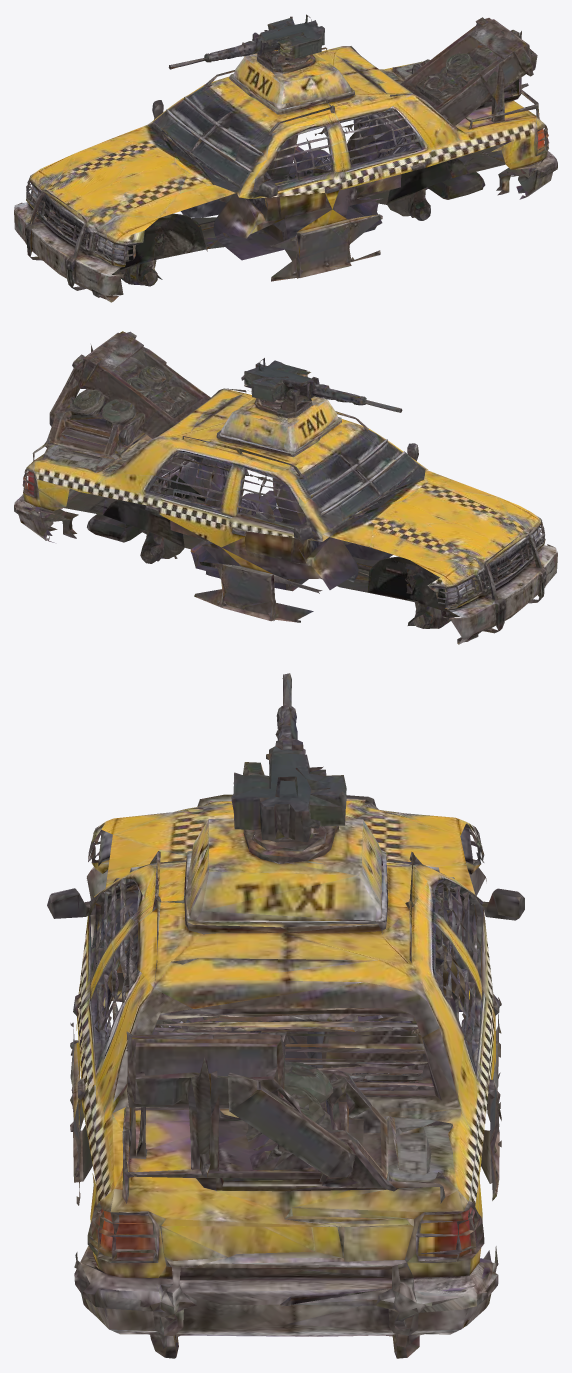
File: jackrabbit-ai.glb
3 views of the same model, one above another, from view 1: azimuth 30°, elevation 25°; view 2: azimuth 150°, elevation 25°; view 3: azimuth 270°, elevation 25° (orthographic). The views are drawn at different scales.
Parts seen in each view (by area): view 1: CarBody; view 2: CarBody; view 3: CarBody.
Boxes of the visible parts, left/top/right/bottom form: CarBody: left=14, top=14, right=557, bottom=302; CarBody: left=14, top=331, right=557, bottom=644; CarBody: left=47, top=673, right=524, bottom=1358.
Bounding box in the file's own units: 1.9 × 0.852 × 0.8324.
1 material, 1 textured.
